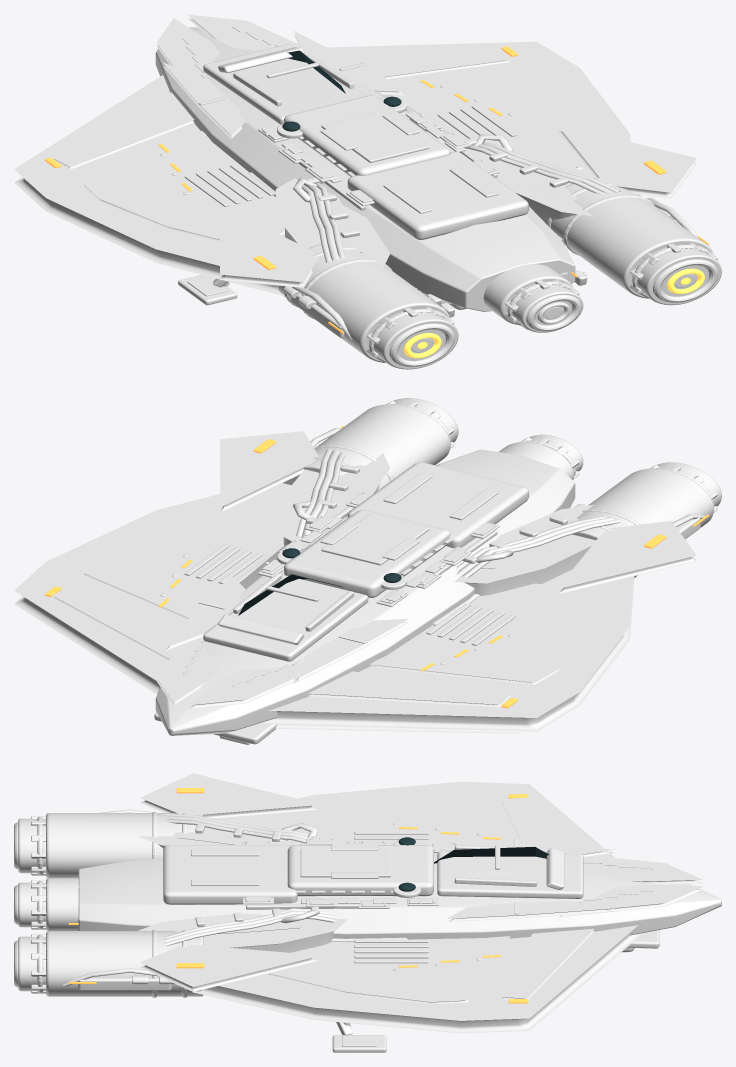
Rendered from light_fighter_model.glb.
3 renders of one model, top to bottom at view 1: azimuth 30°, elevation 25°; view 2: azimuth 150°, elevation 25°; view 3: azimuth 270°, elevation 25°, orthographic. The views are drawn at different scales.
Parts seen in each view (by area): view 1: HULL | pressure spine, WING | PORT swept armor, WING | PORT inset panel, WING | STARBOARD inset panel, SPINE | aft heat shield, ENGINE 03 | structural housing, WING | STARBOARD swept armor, ENGINE 01 | structural housing, TAIL | STARBOARD stabilizer, COCKPIT | armored sill, TAIL | PORT stabilizer, AVIONICS | central raised bay (+24 smaller); view 2: HULL | pressure spine, WING | PORT swept armor, WING | PORT inset panel, WING | STARBOARD swept armor, WING | STARBOARD inset panel, SPINE | aft heat shield, ENGINE 03 | structural housing, COCKPIT | armored sill, TAIL | PORT stabilizer, ENGINE 01 | structural housing, TAIL | STARBOARD stabilizer, AVIONICS | central raised bay (+21 smaller); view 3: HULL | pressure spine, WING | STARBOARD swept armor, WING | STARBOARD inset panel, WING | PORT inset panel, SPINE | aft heat shield, ENGINE 03 | structural housing, ENGINE 01 | structural housing, WING | PORT swept armor, COCKPIT | armored sill, TAIL | STARBOARD stabilizer, TAIL | PORT stabilizer, AVIONICS | central raised bay (+27 smaller).
Part boxes in pixels (x1=…): HULL | pressure spine: x1=155, y1=27, x2=575, y2=311; WING | PORT swept armor: x1=14, y1=75, x2=285, y2=295; WING | PORT inset panel: x1=81, y1=130, x2=284, y2=241; WING | STARBOARD inset panel: x1=392, y1=71, x2=583, y2=169; SPINE | aft heat shield: x1=347, y1=151, x2=528, y2=240; ENGINE 03 | structural housing: x1=550, y1=177, x2=713, y2=298; WING | STARBOARD swept armor: x1=327, y1=41, x2=630, y2=176; ENGINE 01 | structural housing: x1=277, y1=242, x2=449, y2=362; TAIL | STARBOARD stabilizer: x1=557, y1=124, x2=696, y2=198; COCKPIT | armored sill: x1=203, y1=44, x2=365, y2=124; TAIL | PORT stabilizer: x1=220, y1=206, x2=319, y2=287; AVIONICS | central raised bay: x1=284, y1=95, x2=450, y2=176; HULL | pressure spine: x1=155, y1=449, x2=575, y2=735; WING | PORT swept armor: x1=258, y1=569, x2=634, y2=731; WING | PORT inset panel: x1=370, y1=583, x2=583, y2=684; WING | STARBOARD swept armor: x1=14, y1=483, x2=291, y2=694; WING | STARBOARD inset panel: x1=81, y1=506, x2=284, y2=619; SPINE | aft heat shield: x1=347, y1=462, x2=528, y2=548; ENGINE 03 | structural housing: x1=283, y1=404, x2=450, y2=490; COCKPIT | armored sill: x1=203, y1=574, x2=368, y2=661; TAIL | PORT stabilizer: x1=557, y1=521, x2=696, y2=594; ENGINE 01 | structural housing: x1=572, y1=468, x2=713, y2=540; TAIL | STARBOARD stabilizer: x1=220, y1=431, x2=318, y2=512; AVIONICS | central raised bay: x1=284, y1=509, x2=450, y2=598; HULL | pressure spine: x1=78, y1=849, x2=721, y2=939; WING | STARBOARD swept armor: x1=192, y1=925, x2=643, y2=1033; WING | STARBOARD inset panel: x1=269, y1=936, x2=510, y2=1003; WING | PORT inset panel: x1=274, y1=795, x2=497, y2=849; SPINE | aft heat shield: x1=163, y1=845, x2=297, y2=904; ENGINE 03 | structural housing: x1=46, y1=931, x2=203, y2=996; ENGINE 01 | structural housing: x1=46, y1=813, x2=203, y2=878; WING | PORT swept armor: x1=218, y1=781, x2=615, y2=857; COCKPIT | armored sill: x1=437, y1=851, x2=583, y2=898; TAIL | STARBOARD stabilizer: x1=140, y1=945, x2=321, y2=991; TAIL | PORT stabilizer: x1=140, y1=773, x2=321, y2=818; AVIONICS | central raised bay: x1=287, y1=845, x2=433, y2=896.
Size of the model in its own units: 15.2 by 3.5 by 19.
